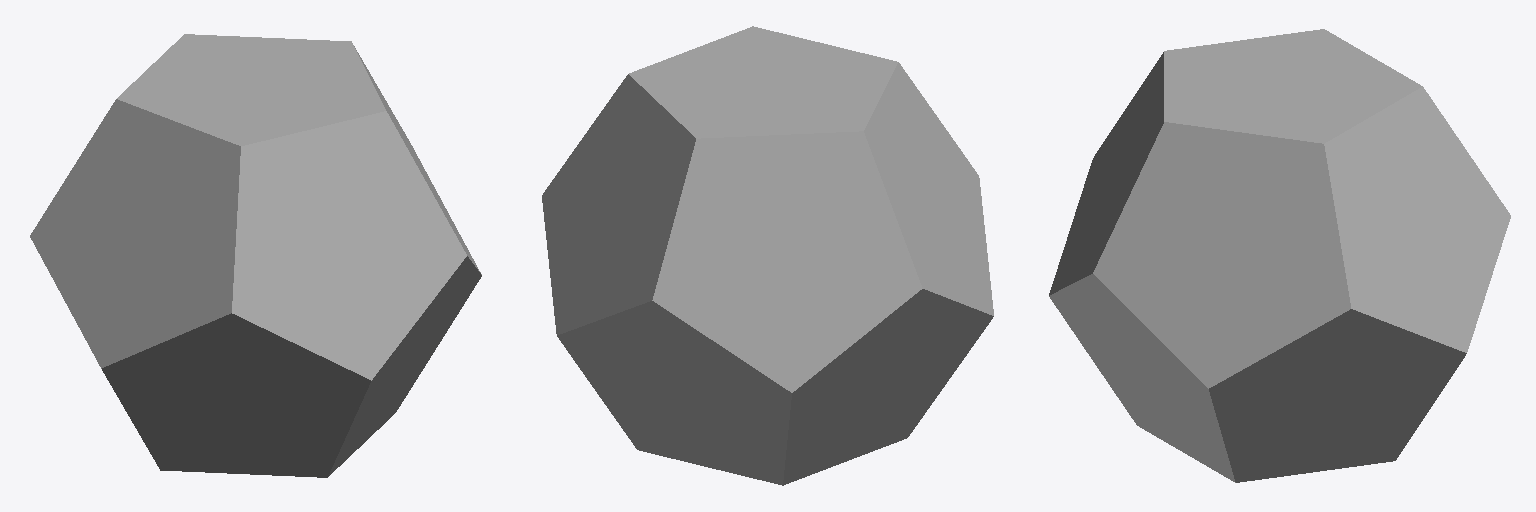
File: mapped_dodecahedron.obj
3 views of the same model, side by side, from view 1: azimuth 30°, elevation 25°; view 2: azimuth 150°, elevation 25°; view 3: azimuth 270°, elevation 25° (orthographic).
Parts seen in each view (by area): view 1: dodecahedron; view 2: dodecahedron; view 3: dodecahedron.
Part boxes in pixels (x1,y1,x2,y2): dodecahedron: (30, 34, 481, 477); dodecahedron: (542, 26, 993, 485); dodecahedron: (1049, 29, 1510, 482).
Bounding box in the file's own units: 7.47 × 6.36 × 7.86.